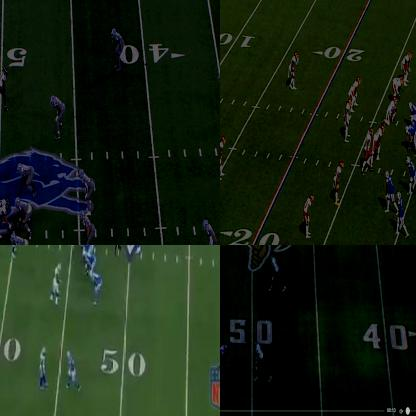CENTER: (0, 202, 13, 234), (408, 101, 415, 124)
DB: (112, 26, 127, 68), (37, 346, 47, 387), (305, 192, 314, 236), (220, 343, 230, 379), (290, 52, 300, 86), (205, 223, 219, 244), (336, 164, 342, 204), (220, 135, 224, 177)
LB: (50, 94, 66, 139), (80, 169, 96, 208), (80, 210, 98, 244), (343, 99, 352, 143), (350, 76, 360, 107), (404, 52, 413, 80), (12, 245, 19, 257)
SKILL: (66, 350, 82, 388), (254, 340, 270, 378), (0, 66, 11, 113), (270, 254, 284, 290), (89, 269, 103, 302), (397, 191, 407, 236), (384, 172, 395, 212), (406, 156, 415, 198)
